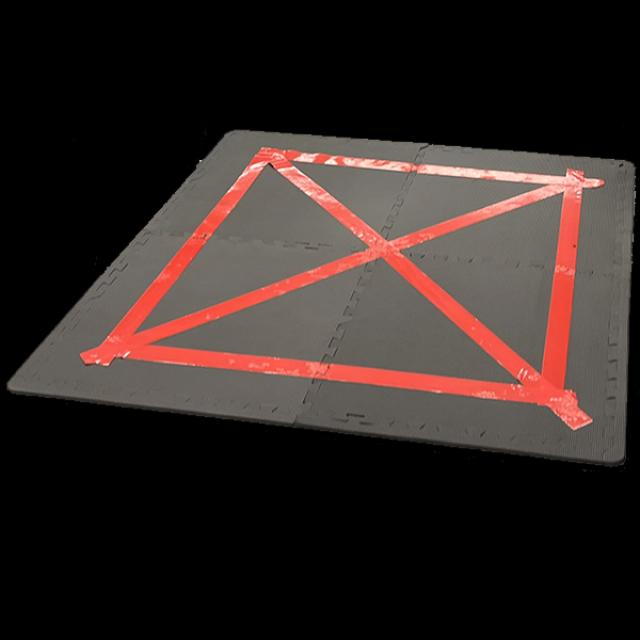landingPads: (7, 132, 637, 468)
